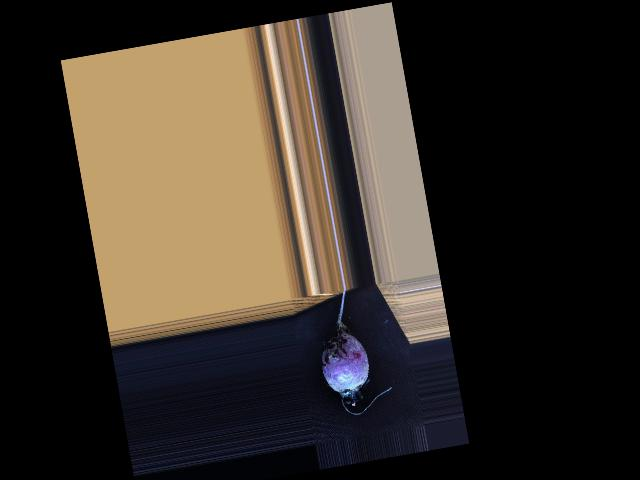beet: (308, 283, 395, 419)
